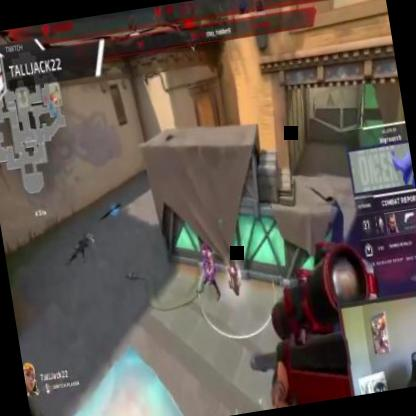enemy: (194, 240, 222, 303)
enemy_head: (200, 243, 208, 255)
